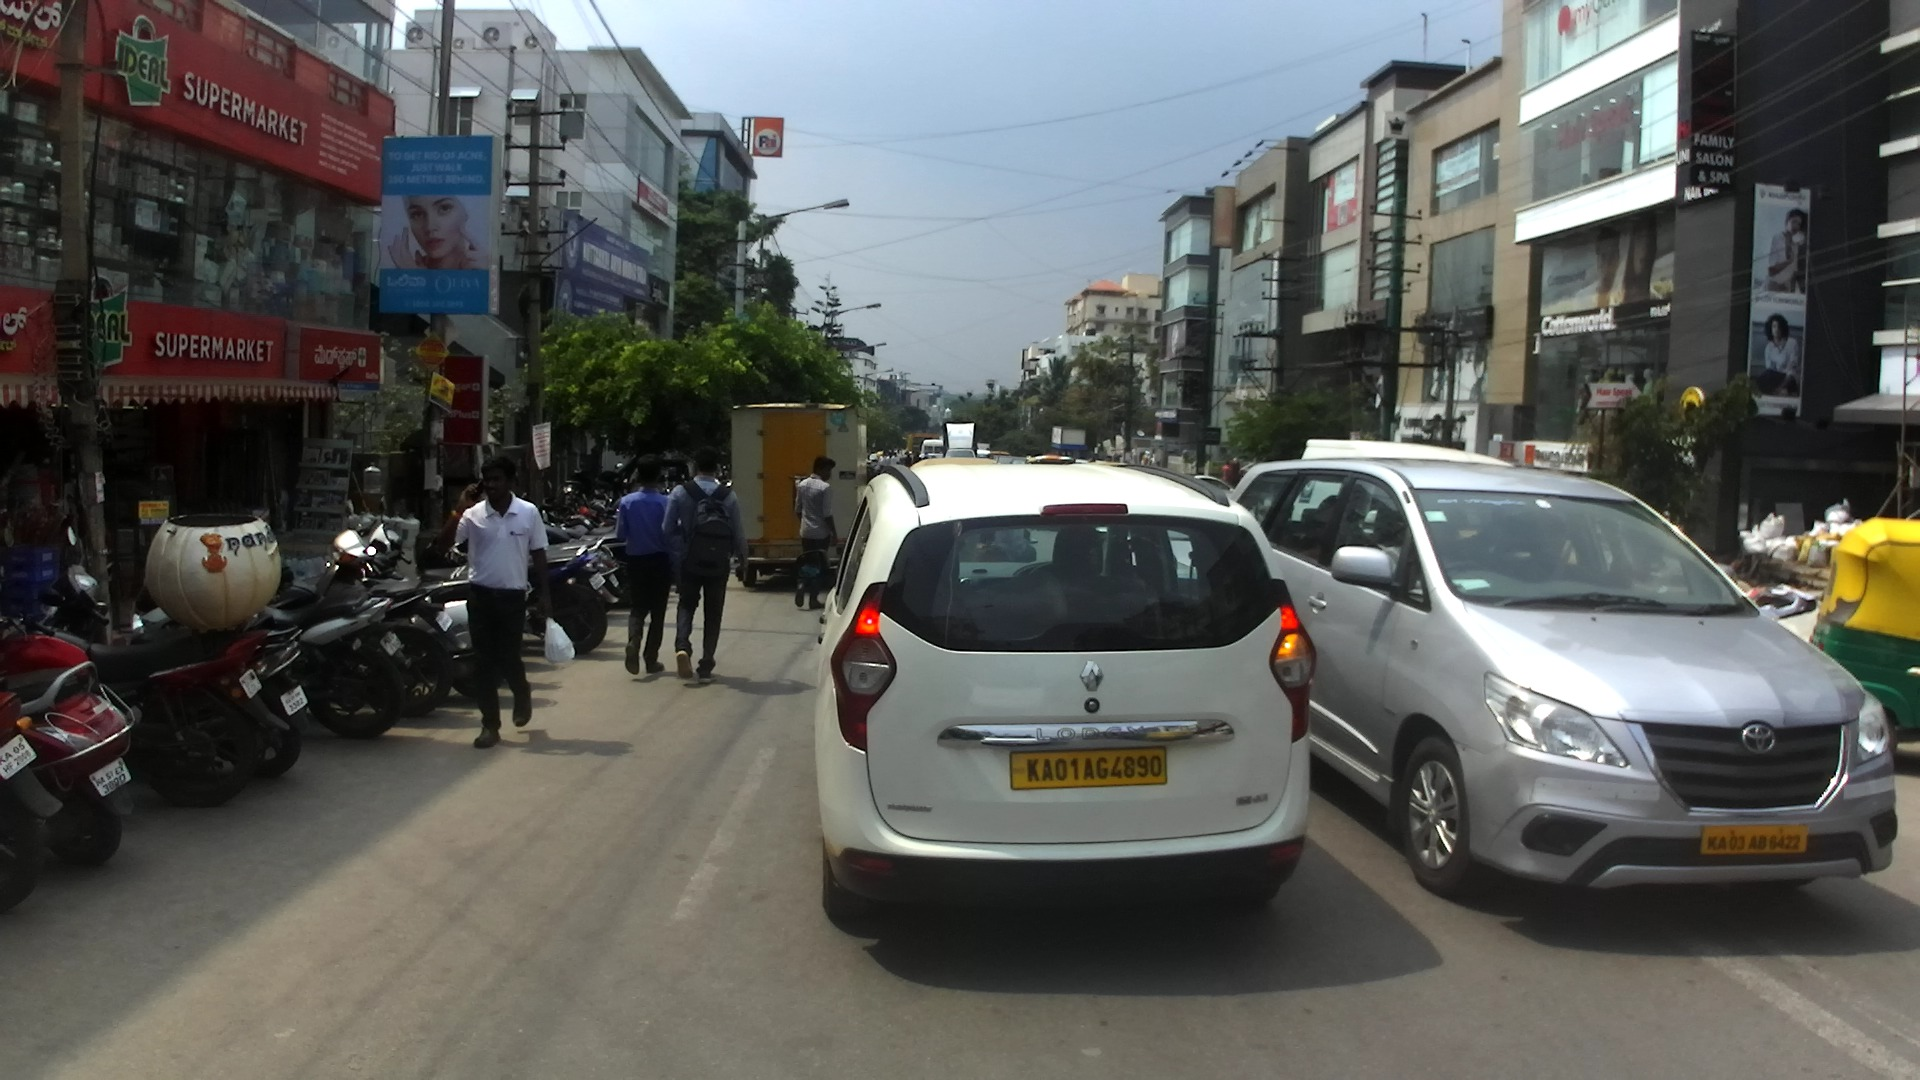autorickshaw: (1810, 517, 1920, 759)
bus: (907, 432, 941, 461), (919, 440, 946, 464)
car: (1227, 439, 1897, 894), (791, 457, 1318, 924), (1189, 475, 1234, 501), (990, 454, 1031, 466)
motorcycle: (36, 526, 310, 779), (1, 596, 291, 808), (128, 577, 409, 739), (316, 498, 504, 696), (366, 495, 530, 698), (271, 563, 467, 718), (420, 516, 619, 656), (1, 660, 135, 864), (518, 492, 648, 606), (1, 679, 61, 914), (544, 537, 623, 612), (539, 497, 624, 537), (534, 506, 624, 542), (551, 490, 620, 529), (563, 487, 623, 520), (570, 481, 626, 516), (583, 475, 630, 512), (597, 463, 624, 488), (714, 464, 736, 491)
person: (432, 454, 576, 750), (663, 443, 749, 685), (615, 455, 690, 675), (792, 456, 839, 609), (1230, 458, 1241, 489), (1221, 459, 1232, 487), (876, 450, 888, 472), (885, 453, 894, 473), (892, 451, 899, 467), (895, 449, 902, 461), (885, 447, 890, 455), (891, 449, 894, 454)
rider: (922, 452, 930, 460)
truck: (730, 401, 867, 588), (938, 423, 979, 460), (976, 443, 991, 461)
vehicle fallback: (1025, 455, 1076, 468), (865, 456, 881, 481), (1074, 459, 1125, 466), (877, 451, 894, 470), (987, 451, 1010, 462), (869, 453, 879, 465)
